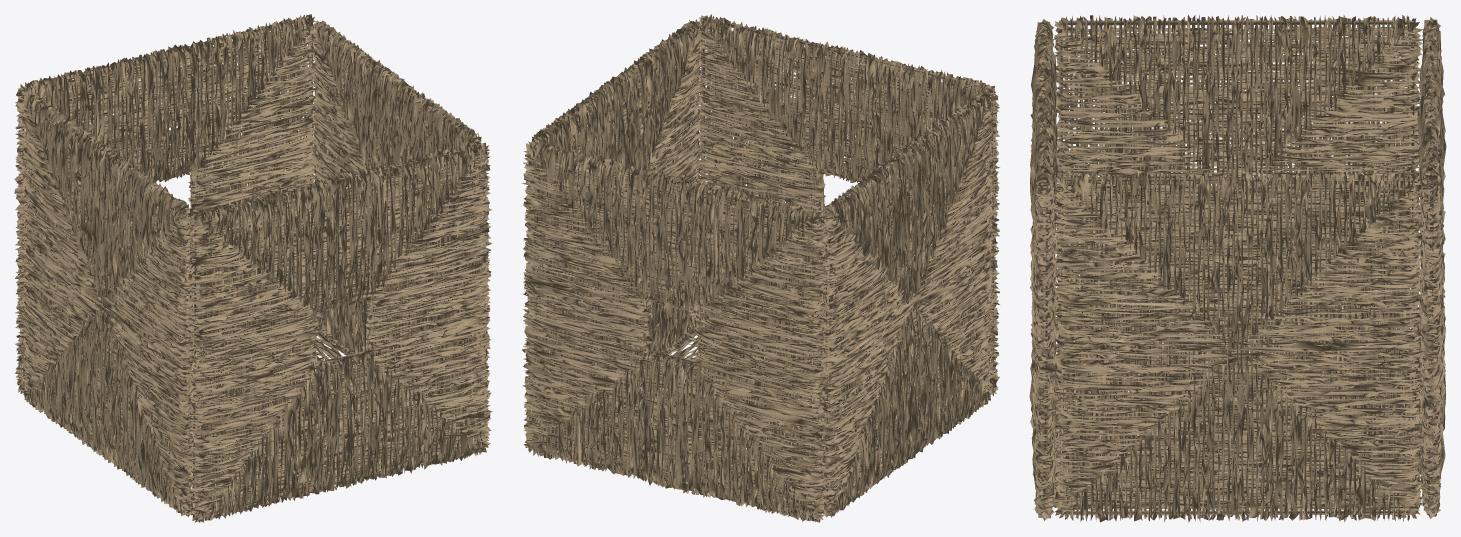
File: LB-BASKET-02.glb
The picture shows the model from 3 angles, left to right: view 1: azimuth 30°, elevation 25°; view 2: azimuth 150°, elevation 25°; view 3: azimuth 270°, elevation 25°; orthographic projection. The views are drawn at different scales.
Parts seen in each view (by area): view 1: 20110540-KNIPSA001; view 2: 20110540-KNIPSA001; view 3: 20110540-KNIPSA001.
Part boxes in pixels (x1,y1,x2,y2): 20110540-KNIPSA001: (14, 14, 492, 522); 20110540-KNIPSA001: (522, 14, 999, 522); 20110540-KNIPSA001: (1029, 14, 1446, 522).
Bounding box in the file's own units: 0.3307 × 0.3192 × 0.3431.
Materials: 1 (1 with a texture image).
